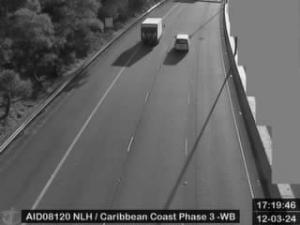truck: (141, 16, 165, 46)
vehicle: (174, 31, 190, 52)
